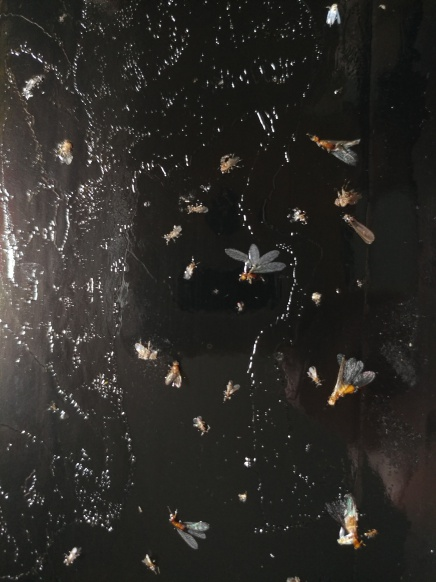flying termite: (326, 351, 378, 409), (225, 243, 288, 286), (166, 500, 214, 554)
